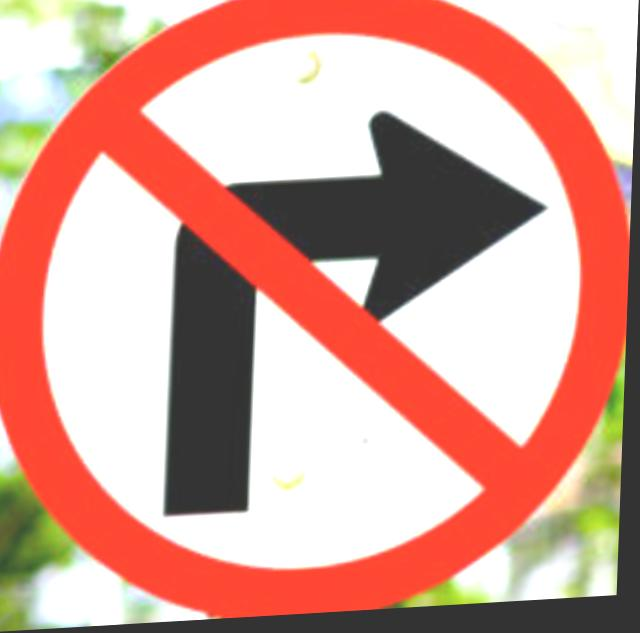not_turn_right: (3, 0, 630, 631)
